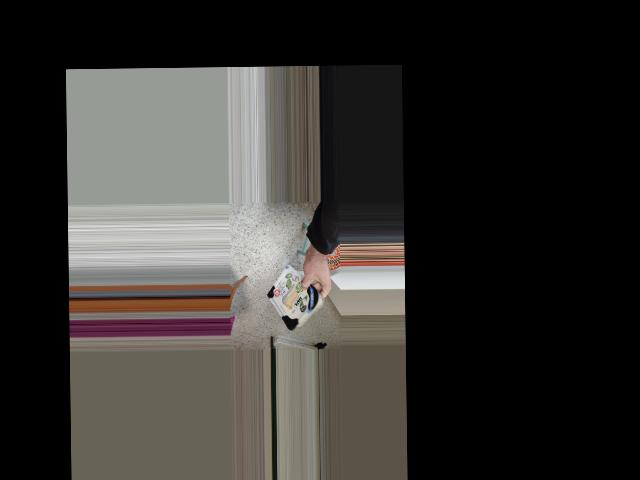cheese: (260, 274, 335, 329)
